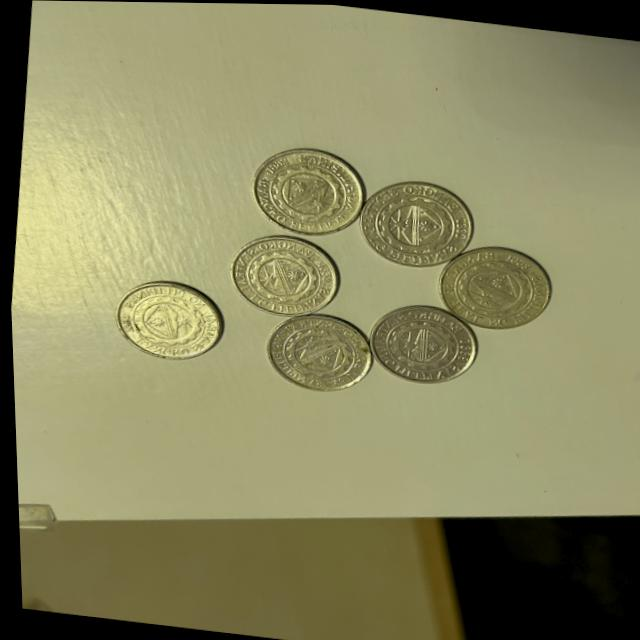1_Old_Back: (442, 251, 541, 323), (366, 186, 460, 258), (230, 242, 326, 310), (259, 156, 350, 227), (122, 286, 212, 353), (275, 319, 362, 386), (373, 313, 462, 376)
